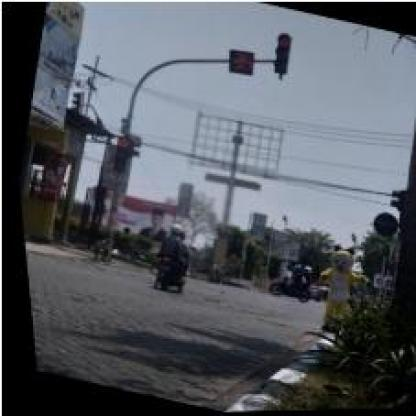red: (268, 33, 293, 77), (105, 134, 130, 174)
